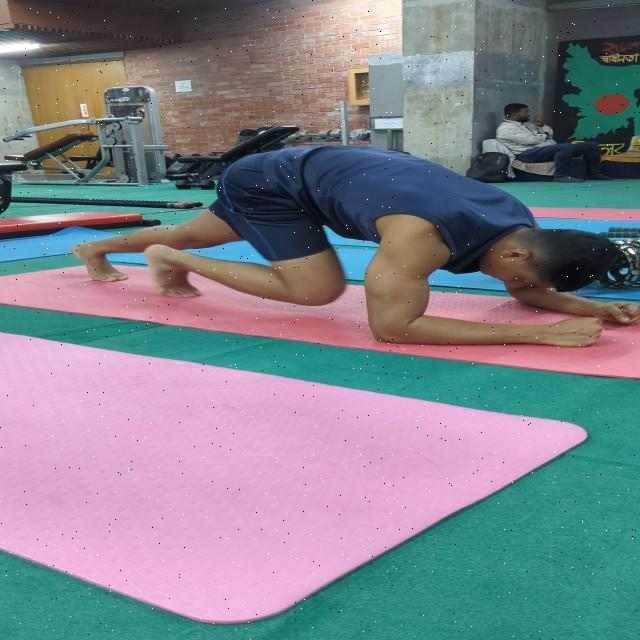Normal_MountainClimbers: (65, 111, 640, 362)
